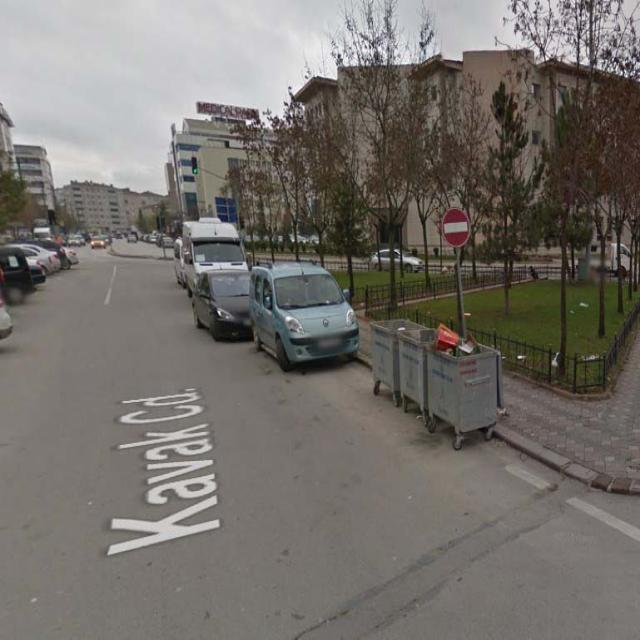girisyok: (442, 209, 472, 247)
